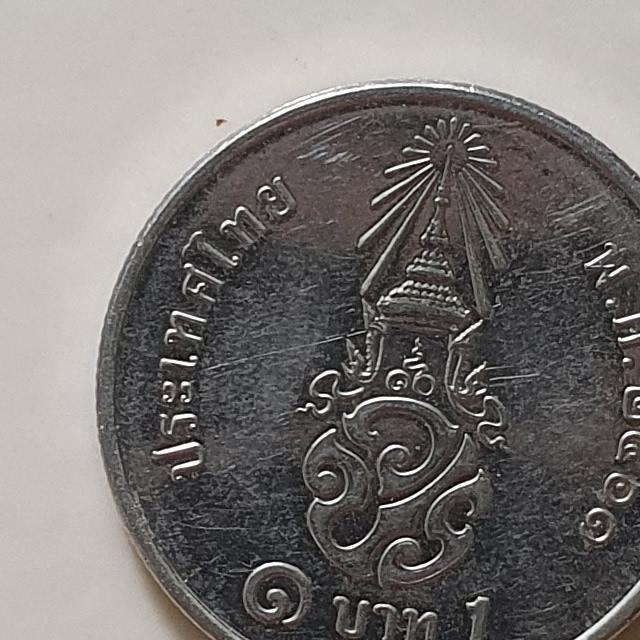1 Bath: (88, 71, 640, 640)
